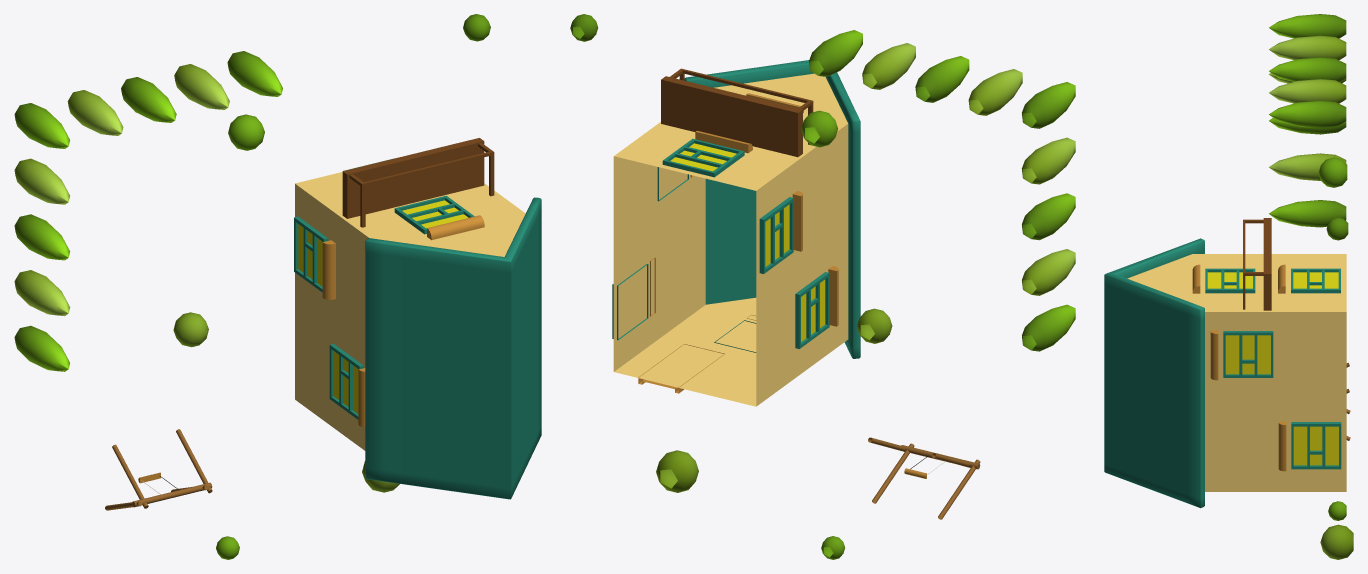
Rendered from Simple_House_03_04.fbx.
3 views of the same model, side by side, from view 1: azimuth 30°, elevation 25°; view 2: azimuth 150°, elevation 25°; view 3: azimuth 270°, elevation 25° (orthographic). The views are drawn at different scales.
Visible parts, largest first — view 1: Simple_House_03_04; view 2: Simple_House_03_04; view 3: Simple_House_03_04.
Part boxes in pixels (x1=…): Simple_House_03_04: x1=14, y1=14, x2=541, y2=559; Simple_House_03_04: x1=570, y1=14, x2=1075, y2=559; Simple_House_03_04: x1=1104, y1=14, x2=1353, y2=559.
Bounding box in the file's own units: 179 × 182 × 97.21.
